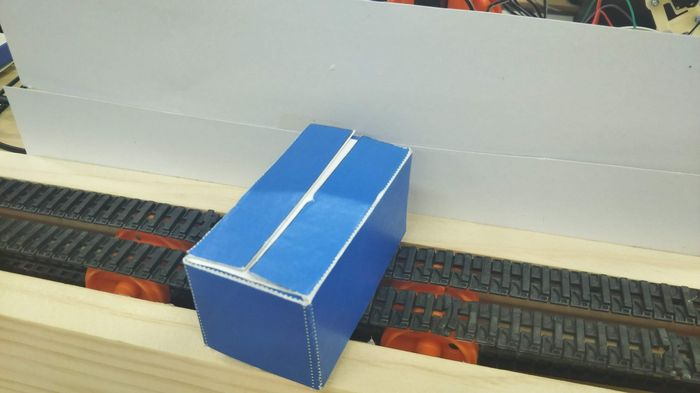box3: (180, 121, 411, 389)
